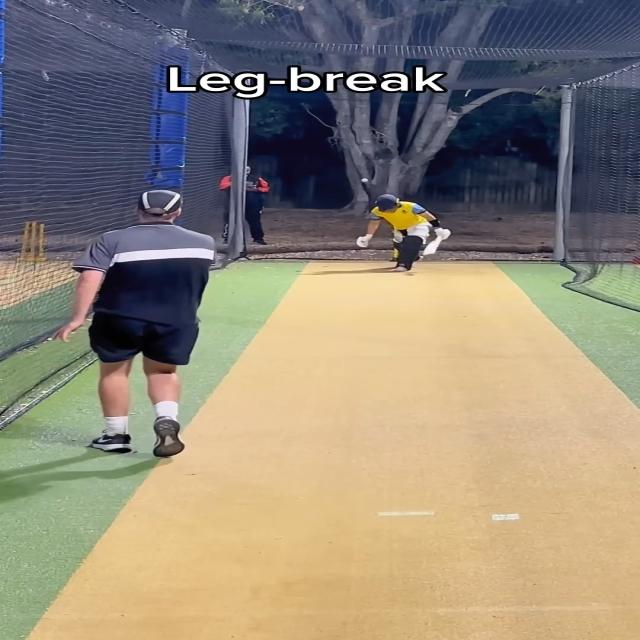Cricket ball: (360, 177, 369, 183)
